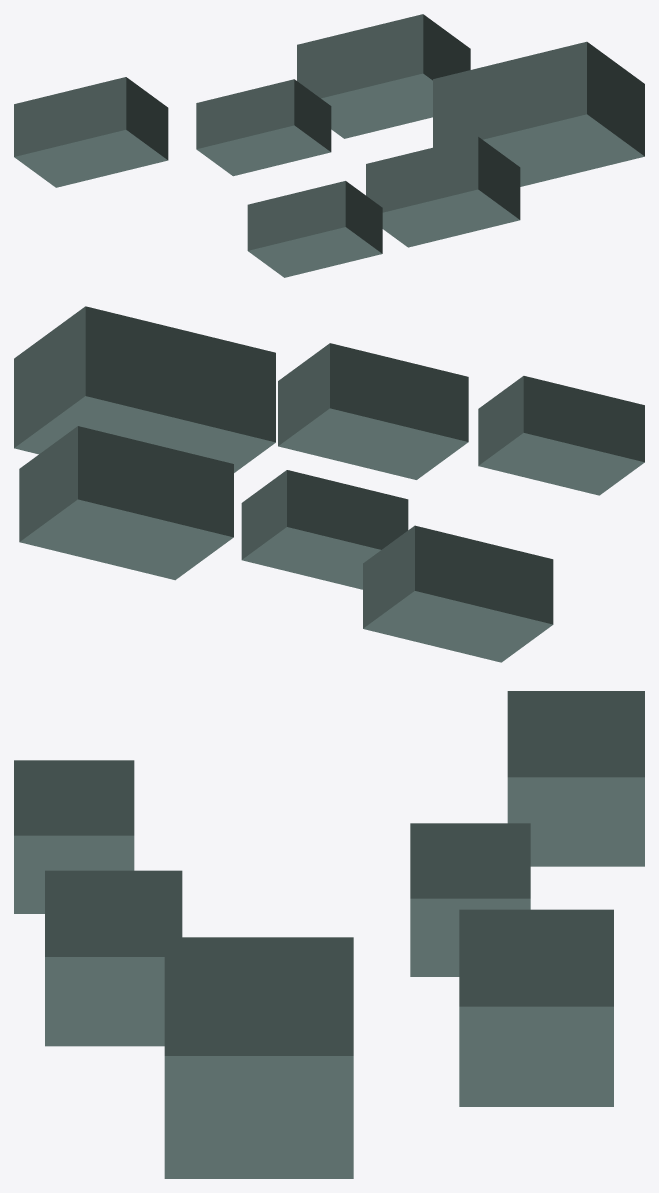
Rendered from SM_OuterReef_Alpha.gltf.
3 renders of one model, top to bottom at view 1: azimuth 30°, elevation 25°; view 2: azimuth 150°, elevation 25°; view 3: azimuth 270°, elevation 25°, orthographic. The views are drawn at different scales.
Visible parts, largest first — view 1: SM_OuterReef_Alpha; view 2: SM_OuterReef_Alpha; view 3: SM_OuterReef_Alpha.
Boxes of the visible parts, bbox=[...] form: SM_OuterReef_Alpha: bbox=[14, 14, 644, 277]; SM_OuterReef_Alpha: bbox=[14, 306, 644, 662]; SM_OuterReef_Alpha: bbox=[14, 691, 644, 1178].
Bounding box in the file's own units: 6.9 × 0.99 × 4.78.
